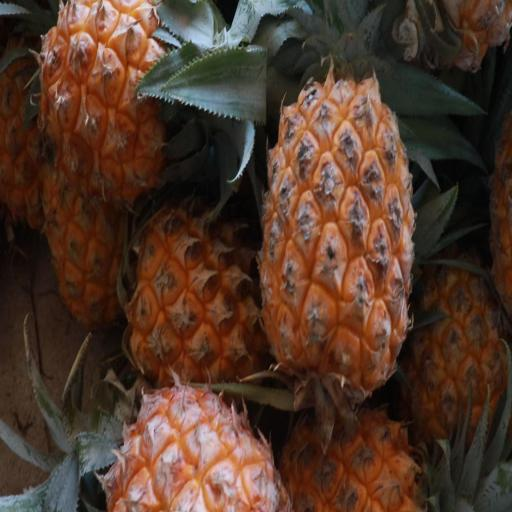Pineapple - v8 v1: (258, 58, 421, 422), (32, 0, 242, 211), (123, 178, 279, 396), (92, 376, 294, 512), (400, 217, 512, 450)
